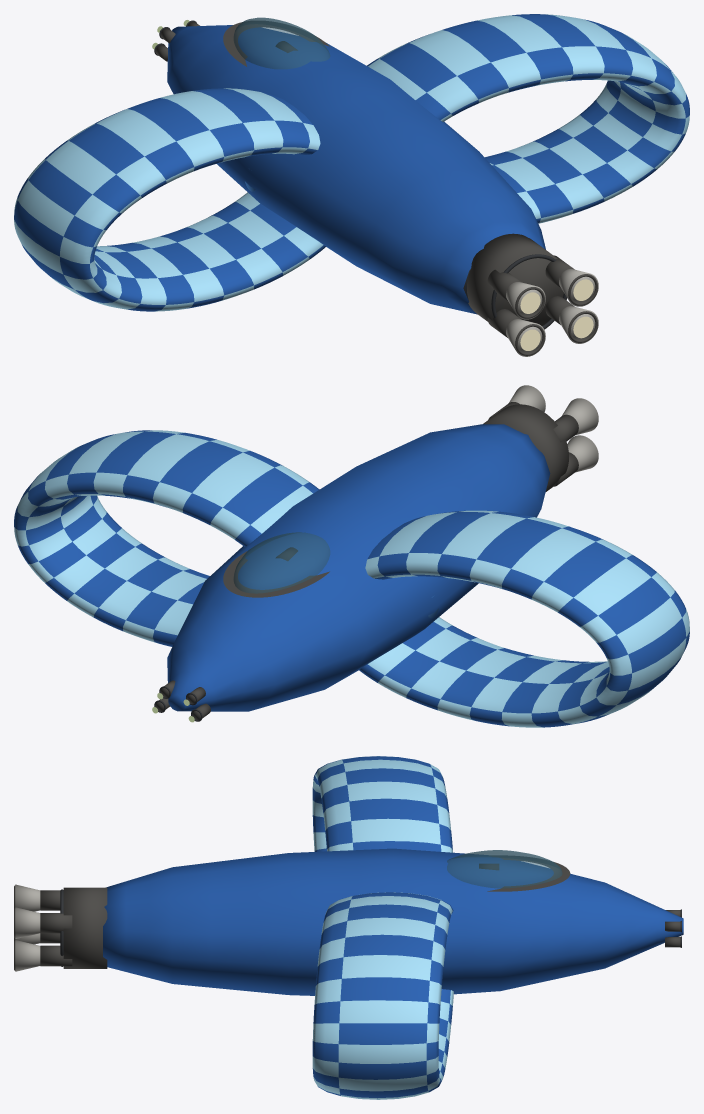
Rendered from Ship_TwoHoop_536191.glb.
The picture shows the model from 3 angles, top to bottom: view 1: azimuth 30°, elevation 25°; view 2: azimuth 150°, elevation 25°; view 3: azimuth 270°, elevation 25°; orthographic projection. The views are drawn at different scales.
Parts seen in each view (by area): view 1: Fuselage_MainCenteredHull_CenterOfMassAtOrigin, Hoop_Left_StructuralRing_YAxisHole_CenterTangent_AftSwept, Hoop_Right_StructuralRing_YAxisHole_CenterTangent_AftSwept, EngineBlock_AftHullIntegratedMountPlate, CanopyGlass_LowForwardPodDome, EngineEmitter, CanopyFrame_LowInsetOvalRim, EngineBell_UpperLeft_AftHullBurnishedNozzle, EngineBell_UpperRight_AftHullBurnishedNozzle, EngineBell_LowerRight_AftHullBurnishedNozzle, EngineBell_LowerLeft_AftHullBurnishedNozzle; view 2: Fuselage_MainCenteredHull_CenterOfMassAtOrigin, Hoop_Left_StructuralRing_YAxisHole_CenterTangent_AftSwept, Hoop_Right_StructuralRing_YAxisHole_CenterTangent_AftSwept, CanopyGlass_LowForwardPodDome, EngineBlock_AftHullIntegratedMountPlate, CanopyFrame_LowInsetOvalRim, EngineBell_UpperLeft_AftHullBurnishedNozzle, EngineBell_LowerLeft_AftHullBurnishedNozzle, EngineBell_UpperRight_AftHullBurnishedNozzle; view 3: Fuselage_MainCenteredHull_CenterOfMassAtOrigin, Hoop_Right_StructuralRing_YAxisHole_CenterTangent_AftSwept, Hoop_Left_StructuralRing_YAxisHole_CenterTangent_AftSwept, CanopyGlass_LowForwardPodDome, EngineBlock_AftHullIntegratedMountPlate, CanopyFrame_LowInsetOvalRim, EngineBell_LowerRight_AftHullBurnishedNozzle, EngineBell_UpperRight_AftHullBurnishedNozzle, EngineThroat_UpperRight_AftHullDarkSocket, EngineBell_UpperLeft_AftHullBurnishedNozzle, EngineThroat_LowerRight_AftHullDarkSocket.
Boxes of the visible parts, left/top/right/bottom form: Fuselage_MainCenteredHull_CenterOfMassAtOrigin: left=167, top=25, right=545, bottom=314; Hoop_Left_StructuralRing_YAxisHole_CenterTangent_AftSwept: left=14, top=88, right=325, bottom=311; Hoop_Right_StructuralRing_YAxisHole_CenterTangent_AftSwept: left=367, top=14, right=689, bottom=223; EngineBlock_AftHullIntegratedMountPlate: left=467, top=233, right=566, bottom=329; CanopyGlass_LowForwardPodDome: left=233, top=17, right=330, bottom=69; EngineEmitter: left=520, top=279, right=593, bottom=350; CanopyFrame_LowInsetOvalRim: left=223, top=21, right=330, bottom=66; EngineBell_UpperLeft_AftHullBurnishedNozzle: left=506, top=282, right=545, bottom=319; EngineBell_UpperRight_AftHullBurnishedNozzle: left=559, top=269, right=598, bottom=306; EngineBell_LowerRight_AftHullBurnishedNozzle: left=559, top=306, right=598, bottom=343; EngineBell_LowerLeft_AftHullBurnishedNozzle: left=506, top=319, right=545, bottom=356; Fuselage_MainCenteredHull_CenterOfMassAtOrigin: left=167, top=424, right=550, bottom=711; Hoop_Left_StructuralRing_YAxisHole_CenterTangent_AftSwept: left=359, top=510, right=689, bottom=727; Hoop_Right_StructuralRing_YAxisHole_CenterTangent_AftSwept: left=14, top=430, right=319, bottom=646; CanopyGlass_LowForwardPodDome: left=233, top=532, right=330, bottom=593; EngineBlock_AftHullIntegratedMountPlate: left=483, top=404, right=568, bottom=491; CanopyFrame_LowInsetOvalRim: left=223, top=551, right=329, bottom=597; EngineBell_UpperLeft_AftHullBurnishedNozzle: left=562, top=398, right=598, bottom=435; EngineBell_LowerLeft_AftHullBurnishedNozzle: left=567, top=435, right=598, bottom=472; EngineBell_UpperRight_AftHullBurnishedNozzle: left=508, top=385, right=545, bottom=412; Fuselage_MainCenteredHull_CenterOfMassAtOrigin: left=103, top=848, right=683, bottom=995; Hoop_Right_StructuralRing_YAxisHole_CenterTangent_AftSwept: left=312, top=892, right=453, bottom=1099; Hoop_Left_StructuralRing_YAxisHole_CenterTangent_AftSwept: left=312, top=756, right=452, bottom=852; CanopyGlass_LowForwardPodDome: left=447, top=850, right=562, bottom=888; EngineBlock_AftHullIntegratedMountPlate: left=63, top=887, right=107, bottom=968; CanopyFrame_LowInsetOvalRim: left=487, top=856, right=570, bottom=891; EngineBell_LowerRight_AftHullBurnishedNozzle: left=15, top=940, right=40, bottom=971; EngineBell_UpperRight_AftHullBurnishedNozzle: left=15, top=907, right=40, bottom=938; EngineThroat_UpperRight_AftHullDarkSocket: left=40, top=913, right=72, bottom=933; EngineBell_UpperLeft_AftHullBurnishedNozzle: left=15, top=884, right=40, bottom=911; EngineThroat_LowerRight_AftHullDarkSocket: left=40, top=945, right=72, bottom=966.
Bounding box in the file's own units: 5.64 × 1.51 × 5.92.
